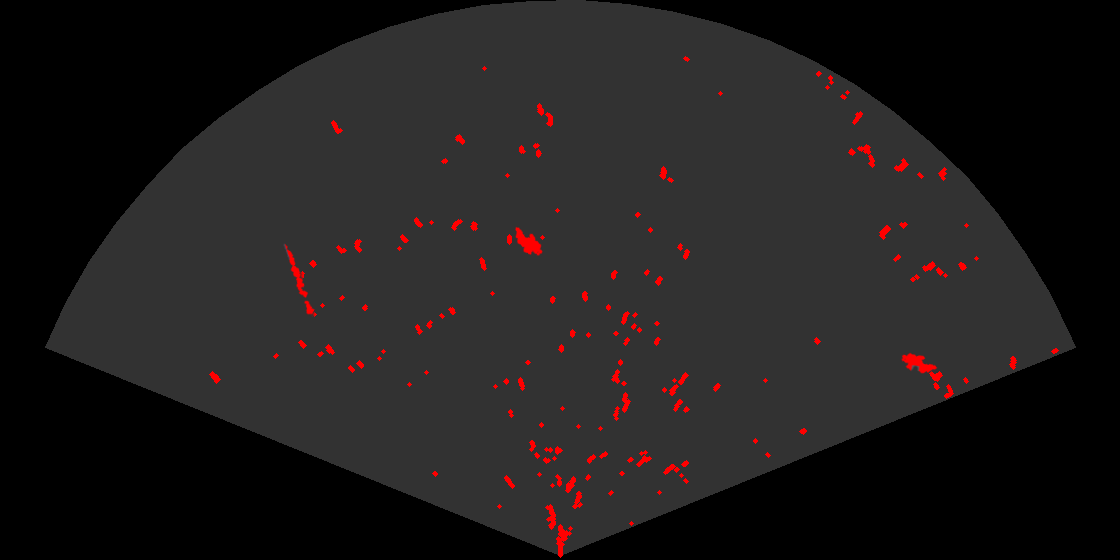AUV: (514, 225, 544, 257), (900, 351, 939, 375)
chain: (283, 242, 316, 317)
